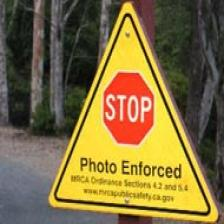Stop-sign: (99, 68, 157, 150)
